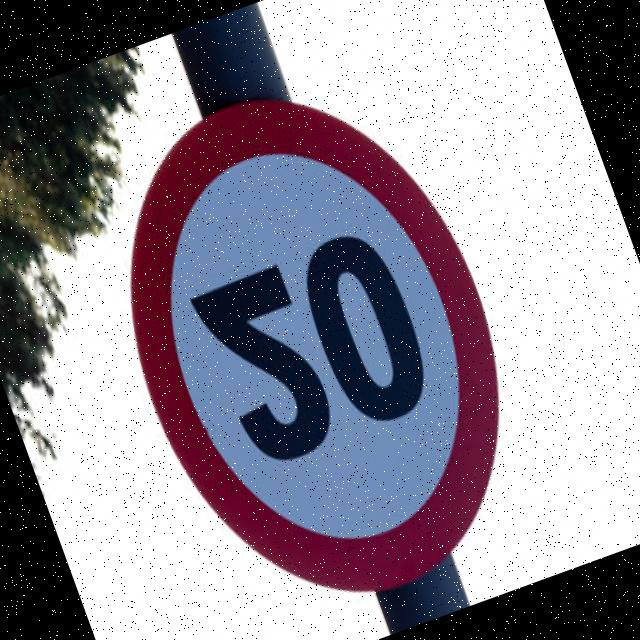speed_limit_20: (49, 45, 574, 640)
